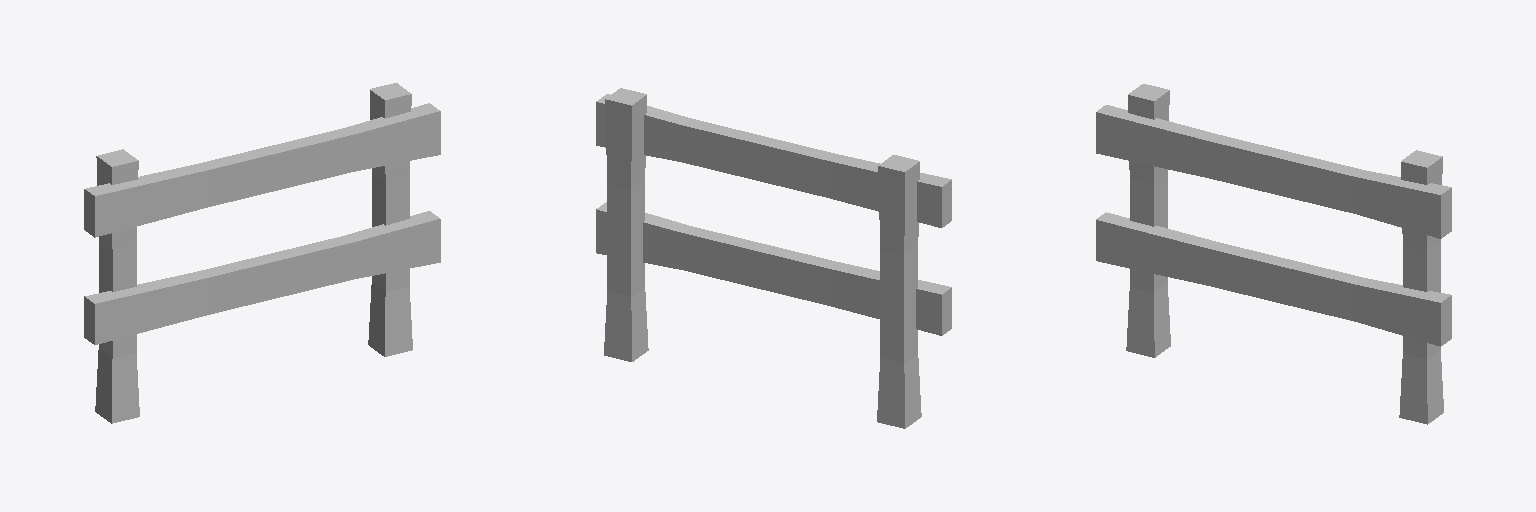
Rendered from fence_02.obj.
The picture shows the model from 3 angles: view 1: azimuth 30°, elevation 25°; view 2: azimuth 150°, elevation 25°; view 3: azimuth 330°, elevation 25°; orthographic projection.
Parts seen in each view (by area): view 1: polySurface1; view 2: polySurface1; view 3: polySurface1.
Boxes of the visible parts, box(x1,y1,x2,y2) form: polySurface1: box(84, 83, 440, 423); polySurface1: box(596, 88, 951, 428); polySurface1: box(1096, 84, 1451, 424).
Size of the model in its own units: 14.66 by 10.39 by 1.73.